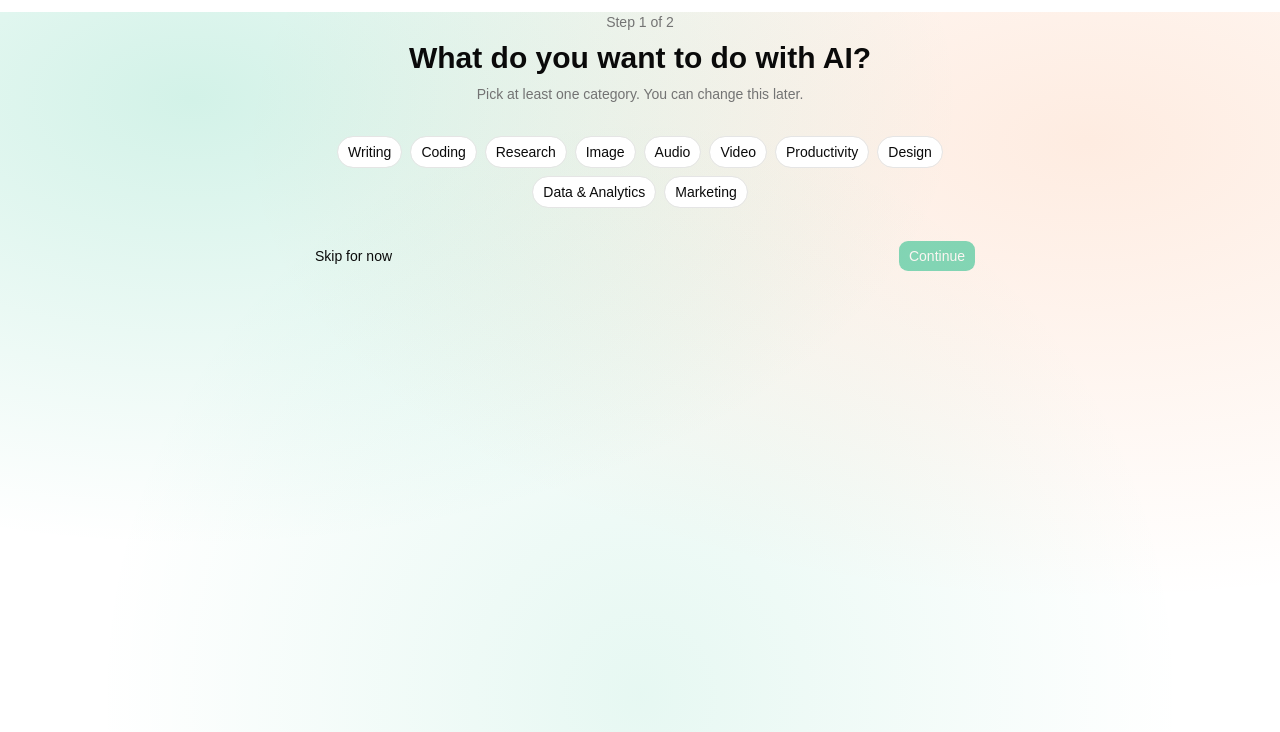
it: OnboardingInterestsStep › clicking a selected chip again deselects it (Pitfall 7 real toggle)
Click the button "Writing".
click(370, 152)  # box [337,136,402,168]
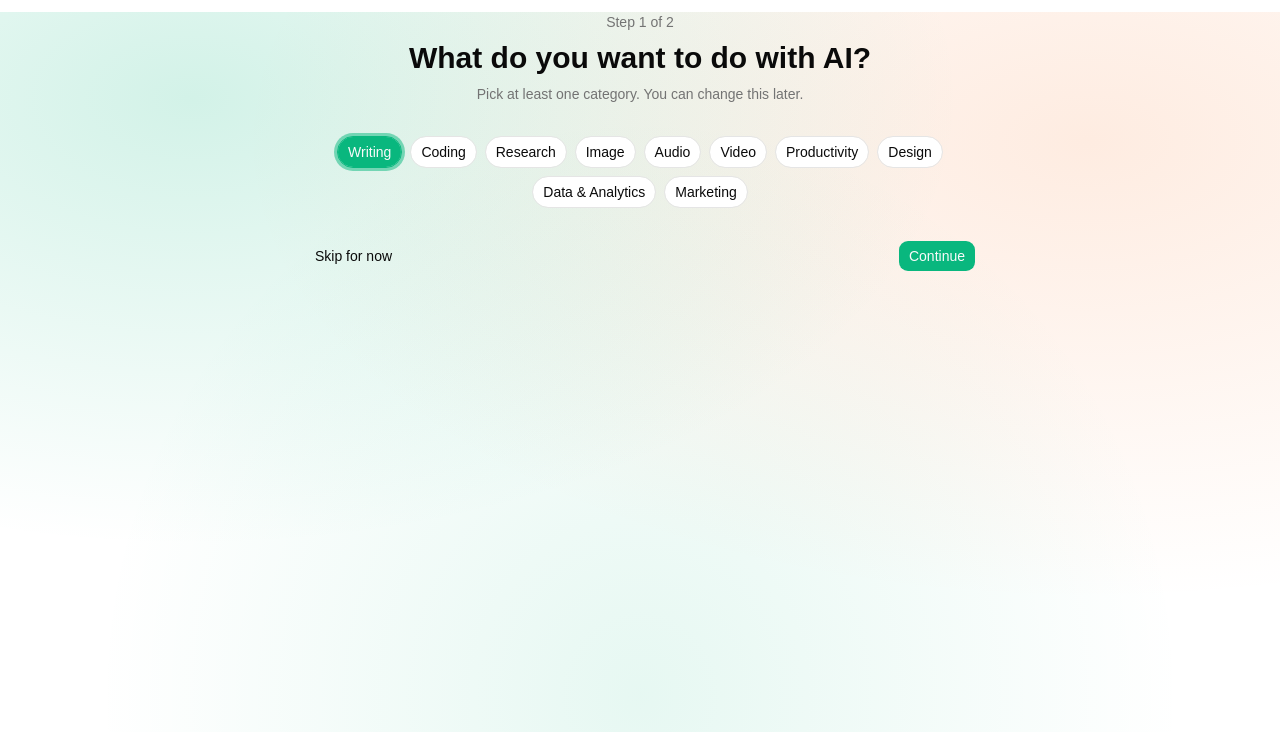
Click the button "Writing".
click(370, 152)  # box [337,136,402,168]
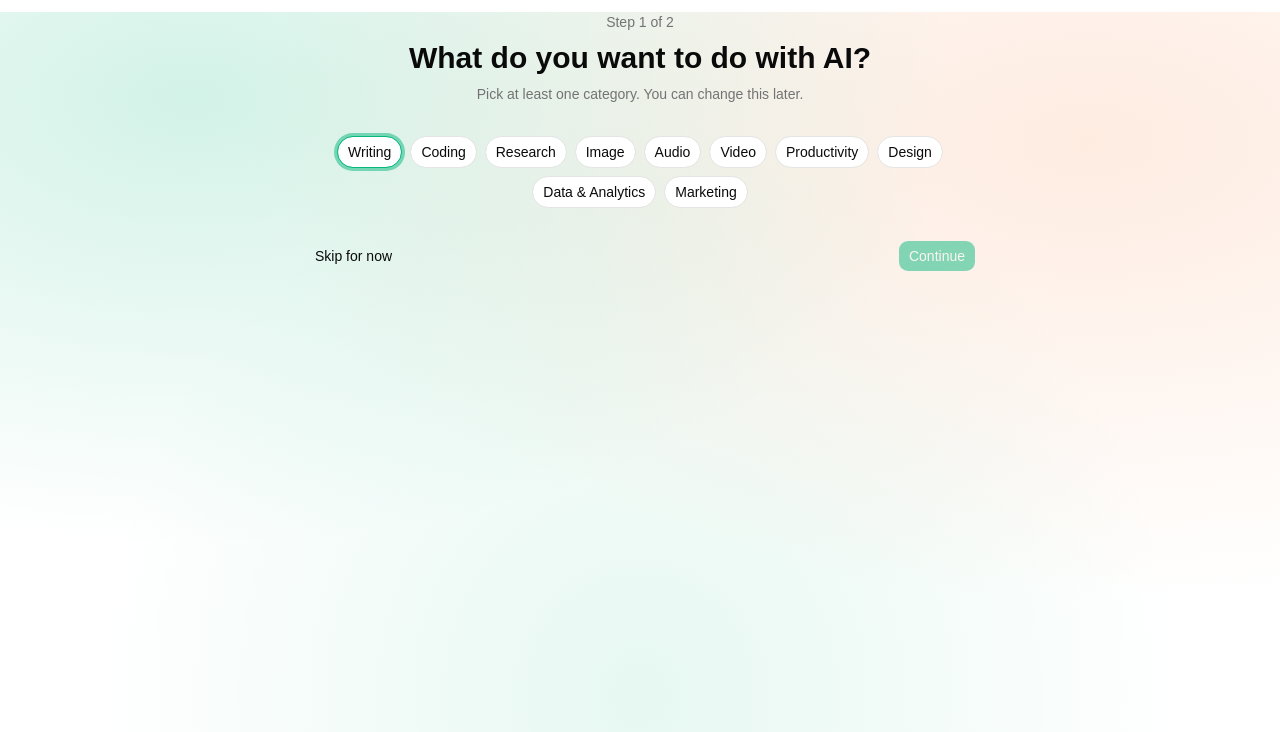
Result: the button "Continue" is disabled at [898,240,976,272]
